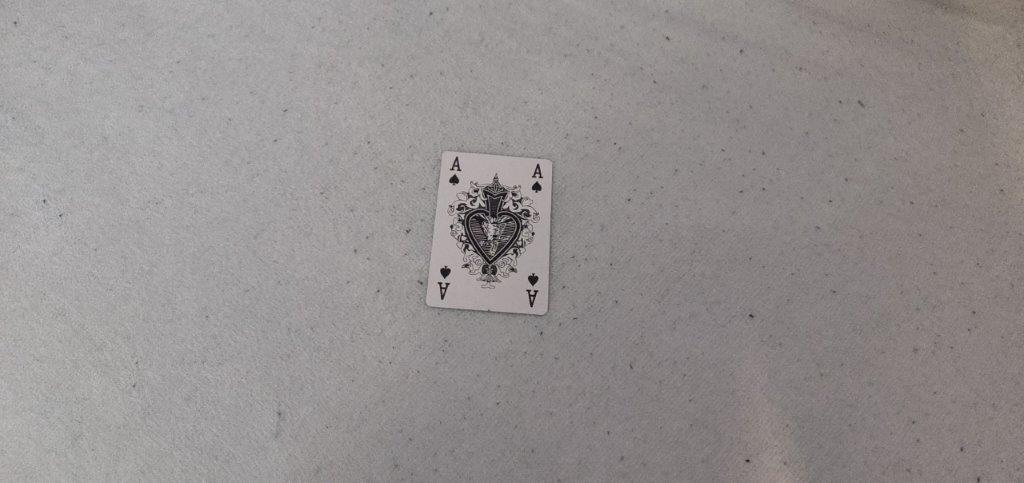AS: (445, 154, 463, 188), (529, 161, 545, 197)
